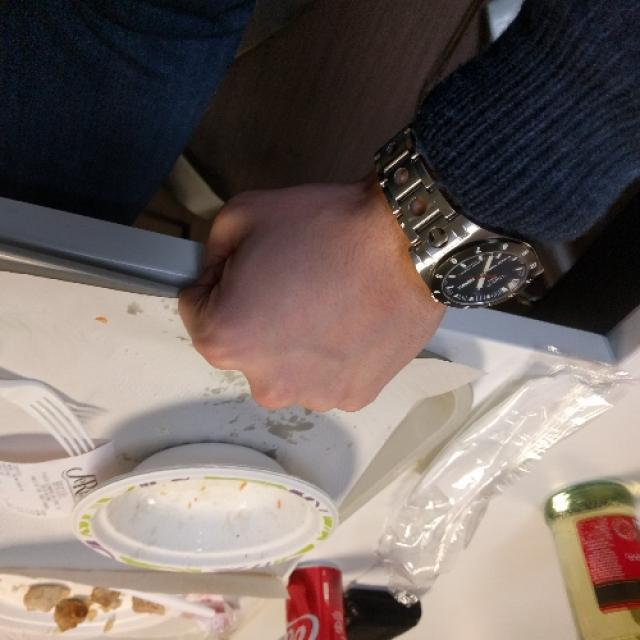fist: (177, 182, 452, 417)
